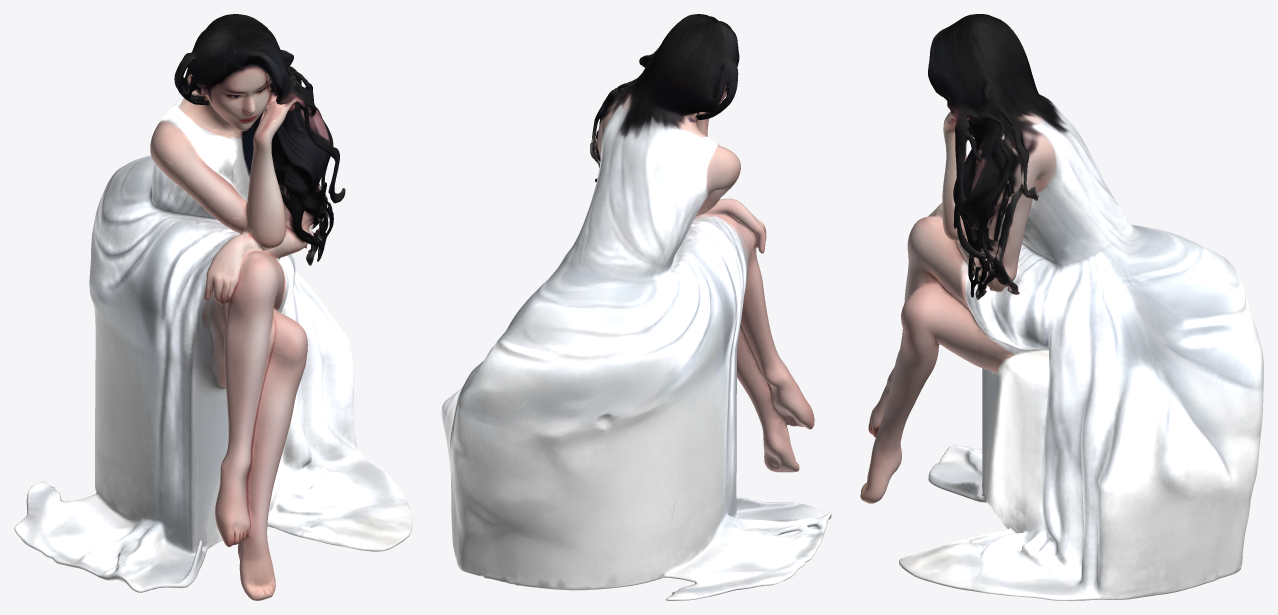
Rendered from Meshy_AI__0519184741_texture_1781450893914.glb.
3 views of the same model, side by side, from view 1: azimuth 30°, elevation 25°; view 2: azimuth 150°, elevation 25°; view 3: azimuth 270°, elevation 25° (orthographic). The views are drawn at different scales.
Size of the model in its own units: 1.35 by 2 by 1.46.
1 material, 1 textured.
